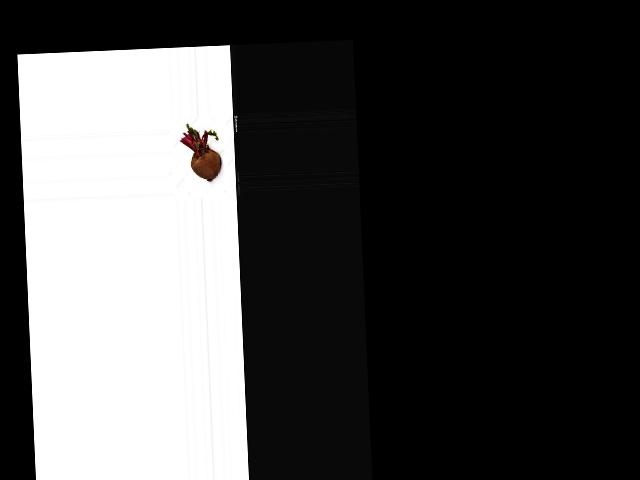beet: (179, 122, 222, 183)
